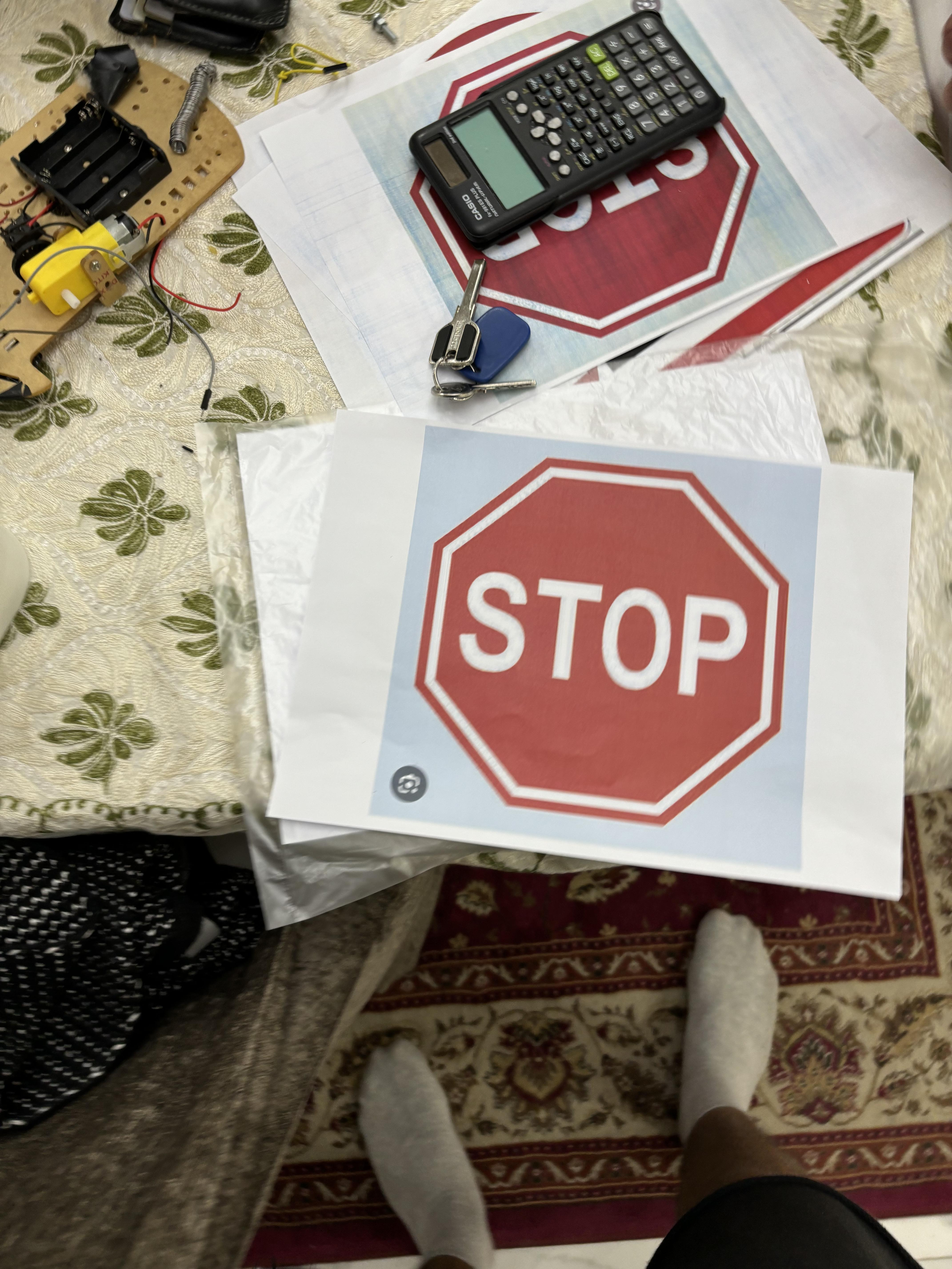Stop: (406, 454, 794, 824)
